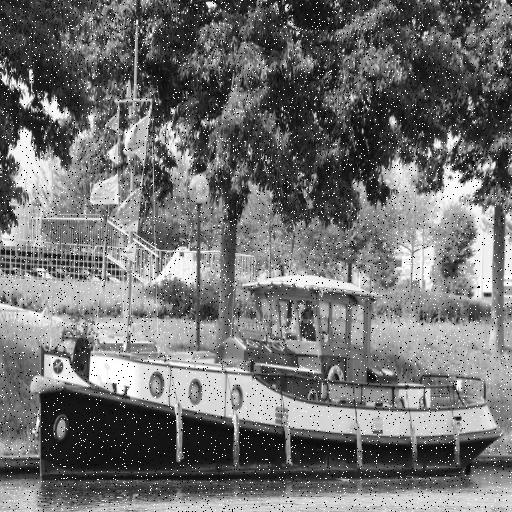tugboat: (29, 271, 508, 496)
